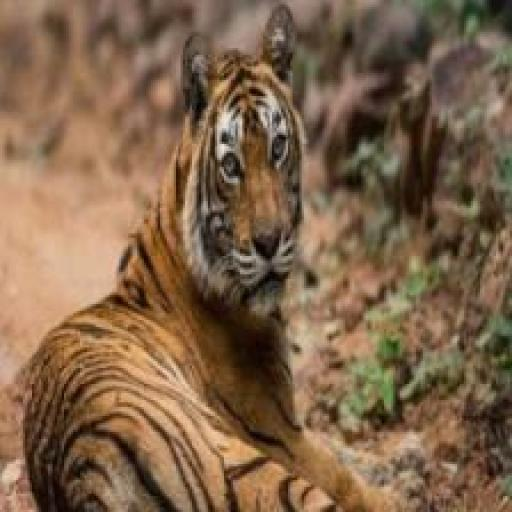Tiger: (16, 2, 470, 512)
